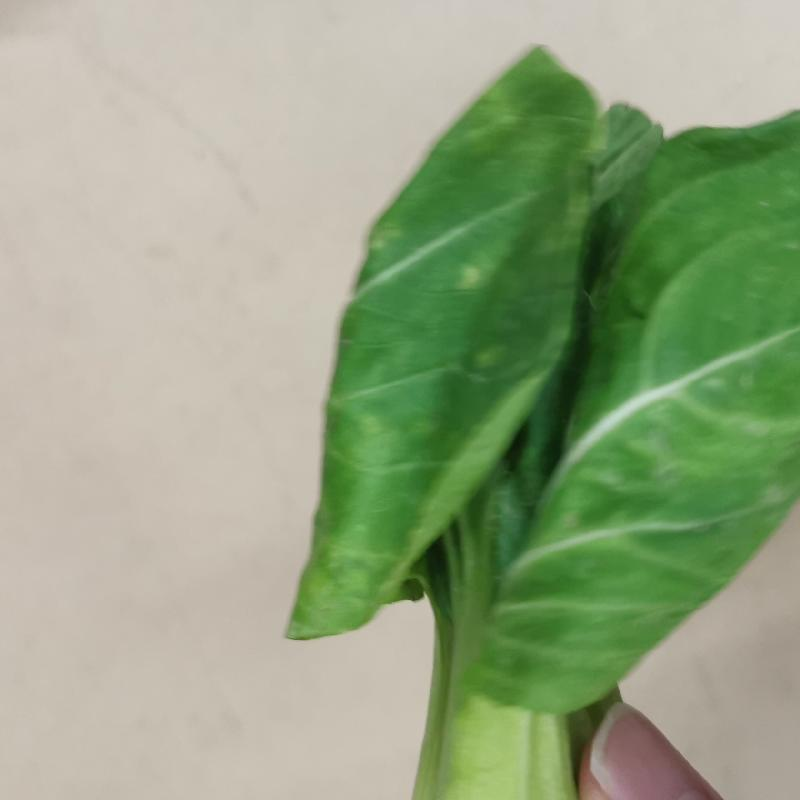green vegatable: (309, 47, 800, 800)
